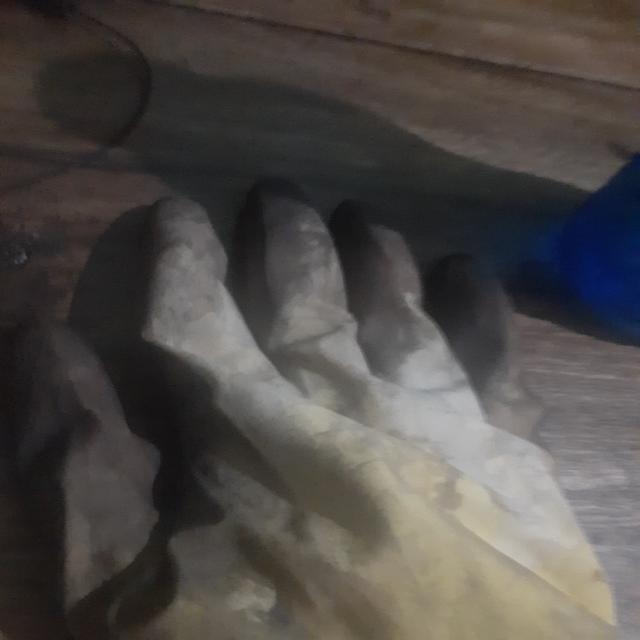glove_hand: (12, 172, 624, 639)
